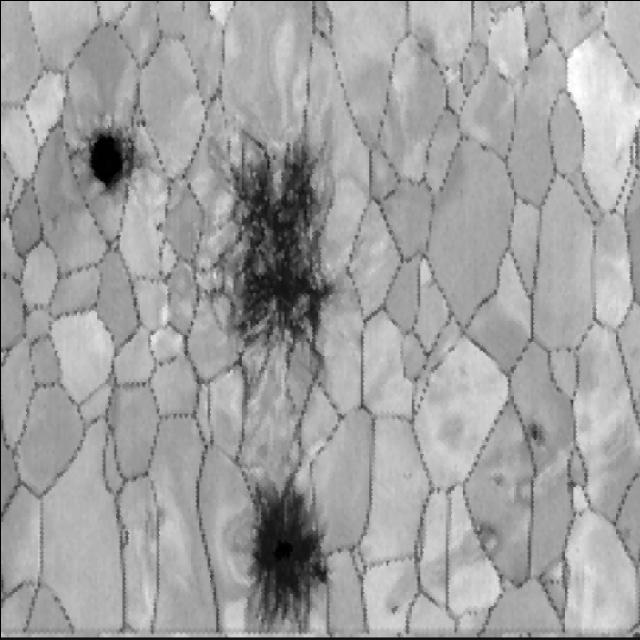good_void: (199, 107, 329, 387), (243, 481, 322, 633), (71, 114, 133, 200), (461, 514, 502, 570), (517, 416, 546, 450), (483, 464, 505, 492), (387, 600, 397, 614)
